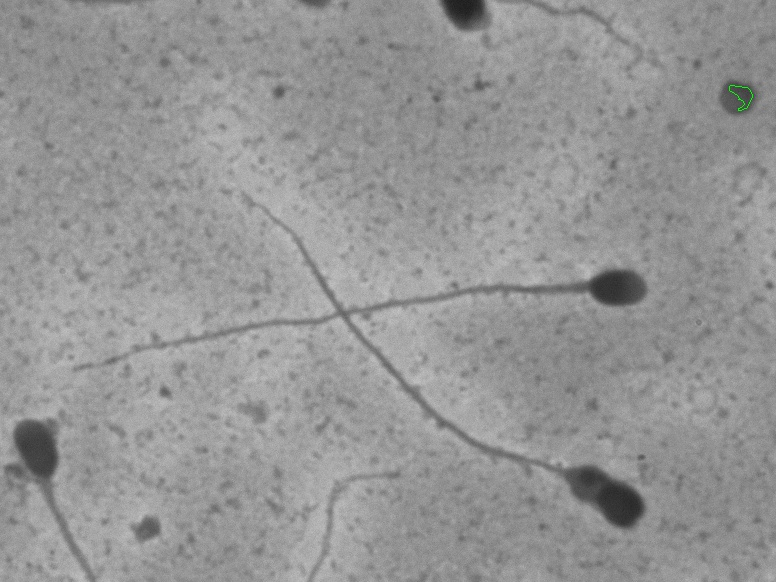Abnormal: (224, 172, 663, 550)
Normal: (63, 232, 713, 397)
